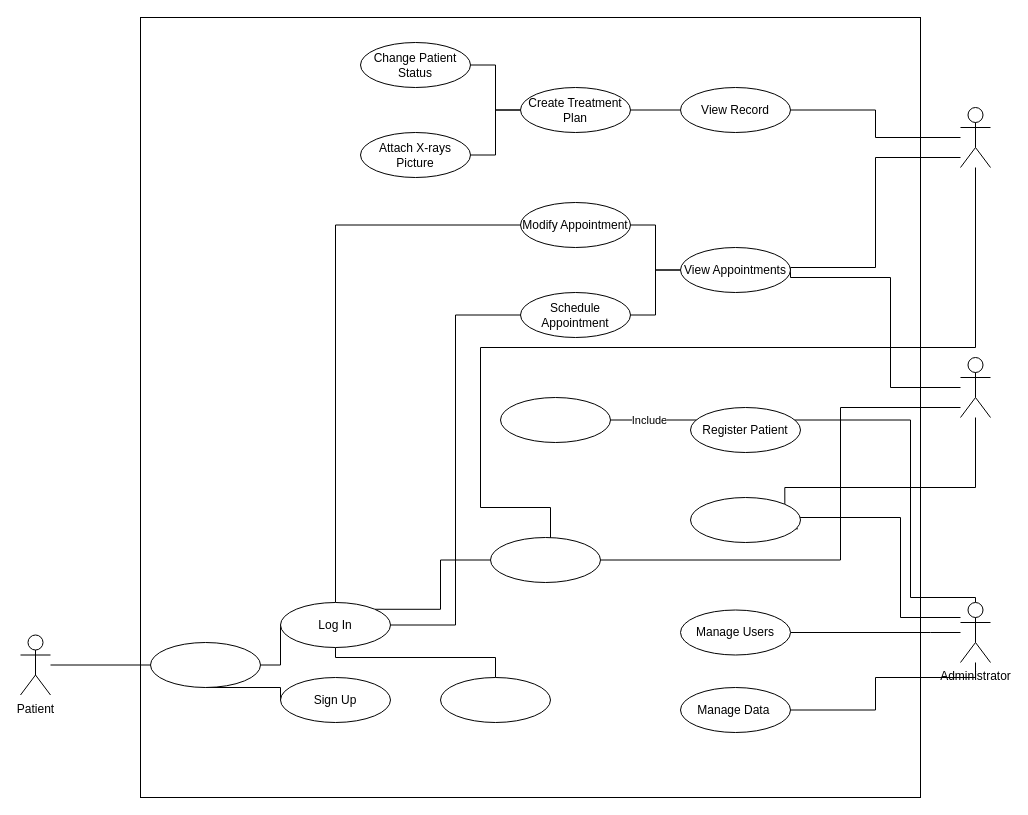
The diagram is 1028 pixels wide and 815 high, and some of its shapes have lost their labels. Each missing label, with the centre of its shape:
"Communication" belongs at (x=545, y=559).
"Dentist" belongs at (x=975, y=137).
"Enter patient INFO" belongs at (x=555, y=419).
"Receive Reminders" belongs at (x=495, y=699).
"Receptionist" belongs at (x=975, y=387).
"Register" belongs at (x=205, y=665).
"Search Patient" belongs at (x=745, y=519).
